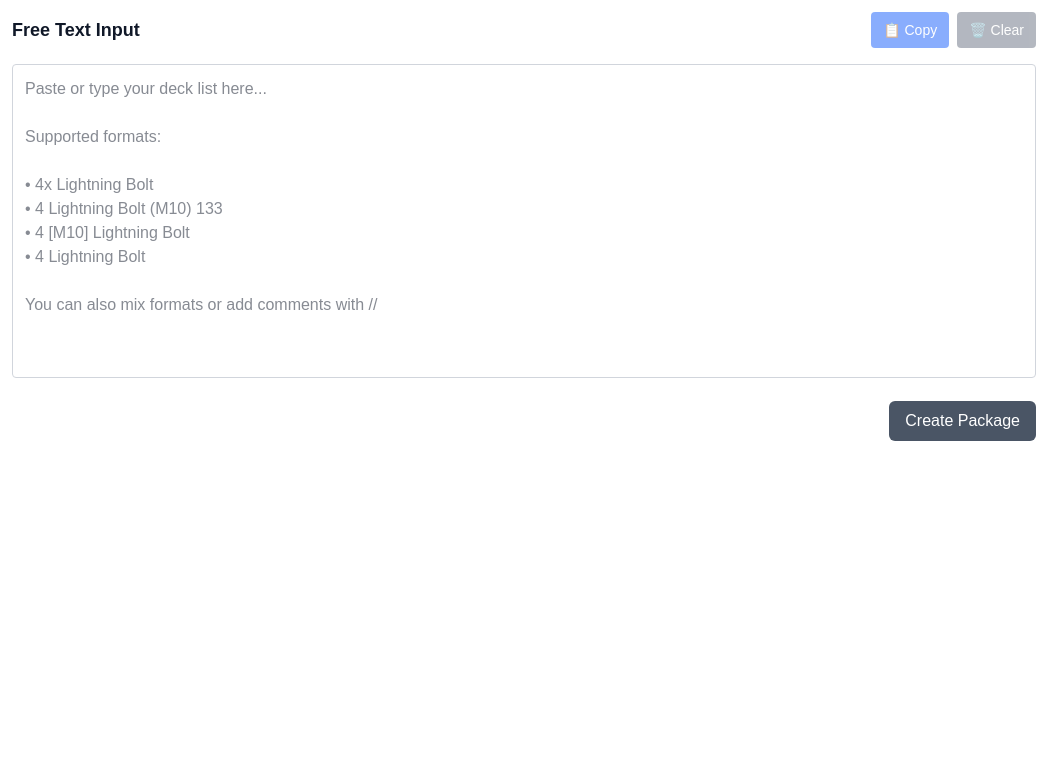
Test: FreeTextInput › handles copy failure gracefully
This screenshot has width=1048, height=780.
Replace the text in the text box with placeholder "Paste or type your deck list here" with "4x Lightning Bolt" at (524, 221), box [12,64,1036,378]
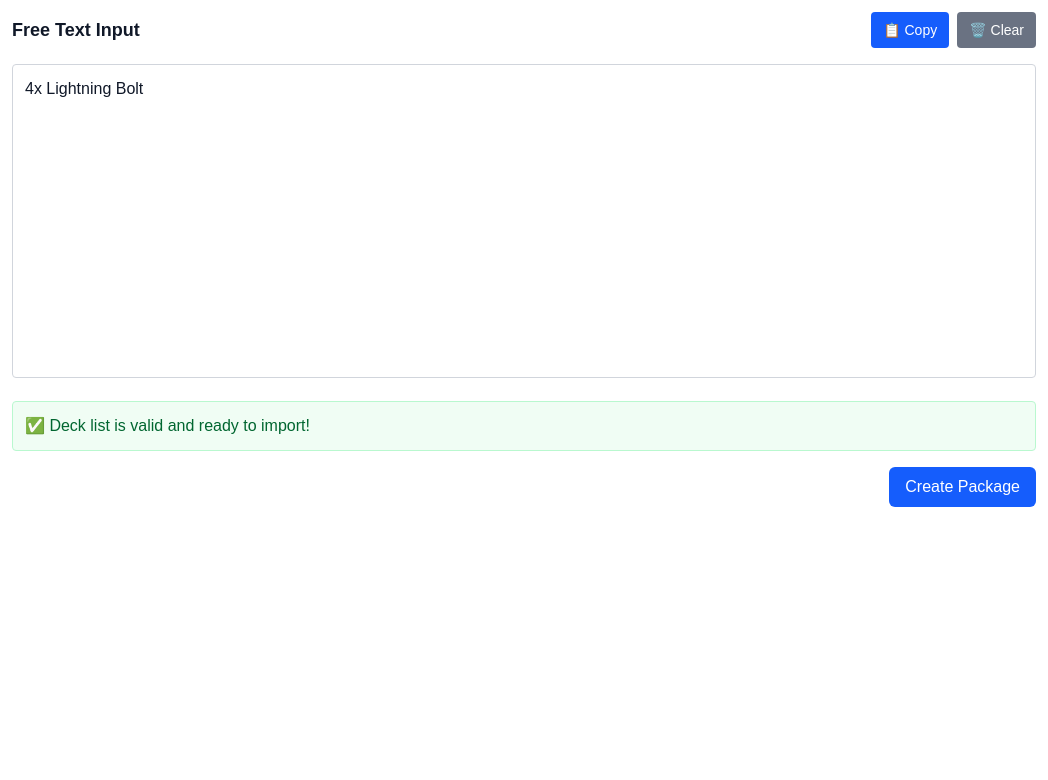
Check: the text "✅ Deck list is valid and ready to import!" is shown, box [12,401,1036,451]
Click the button "📋 Copy" at (910, 30), box [871,12,949,48]
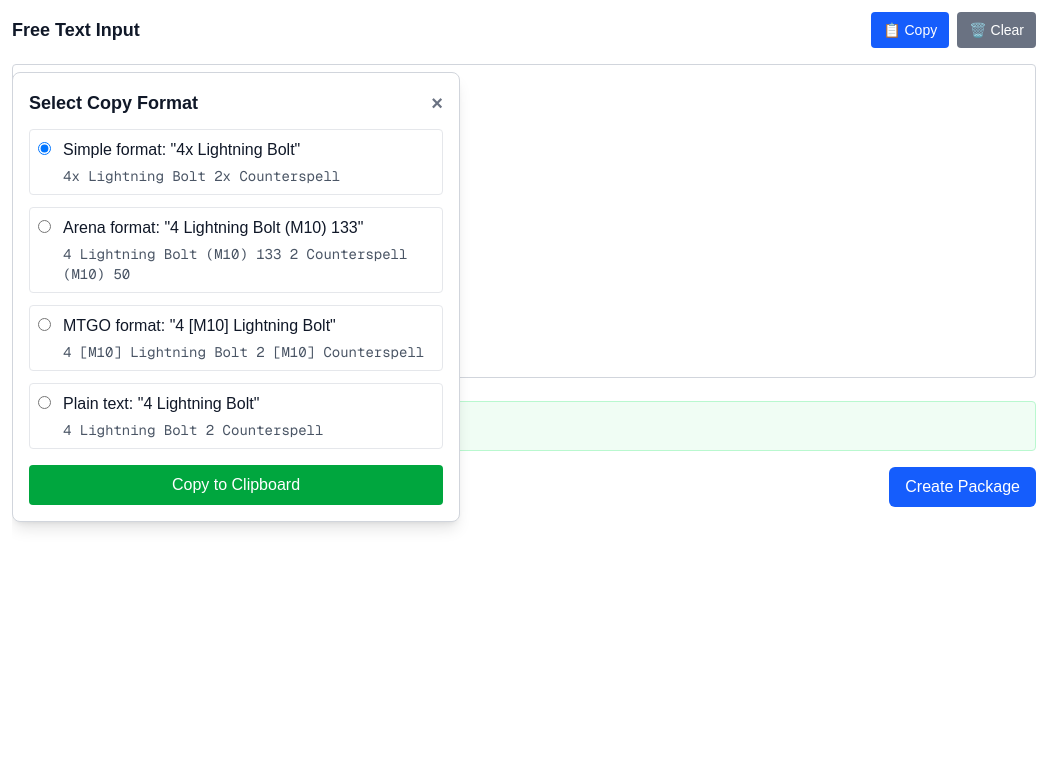
Click the button "Copy to Clipboard" at (236, 485), box [29,465,443,505]
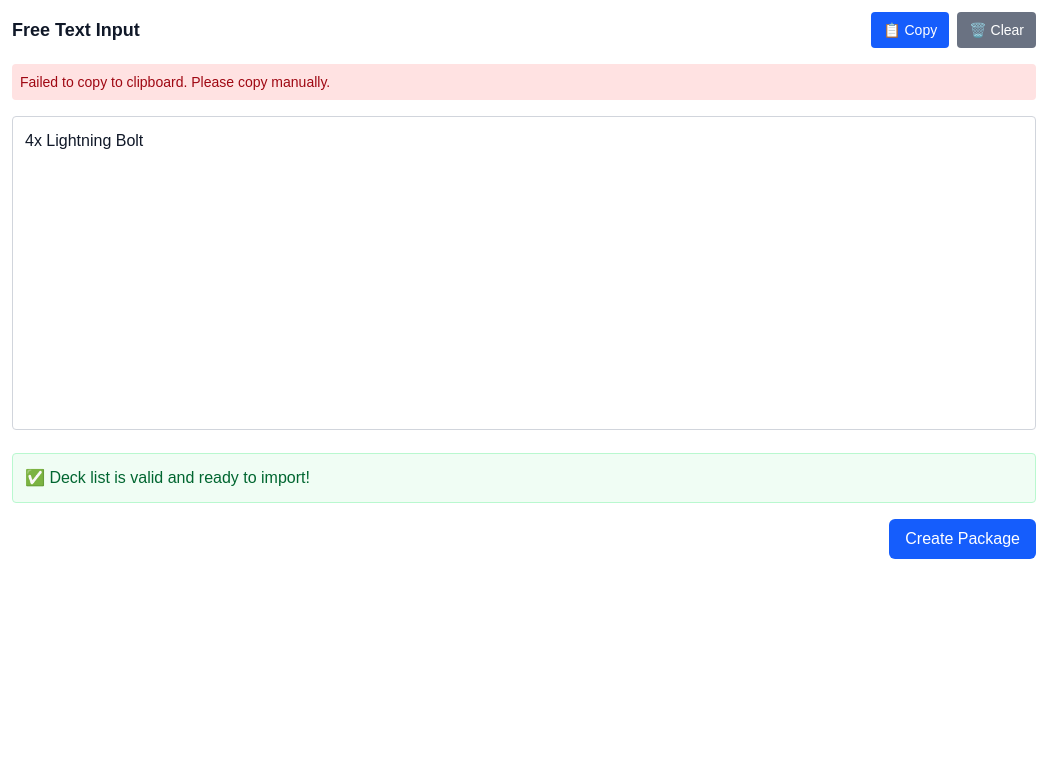
Check: the text "Failed to copy to clipboard. Please copy manually." is shown, box [12,64,1036,100]
